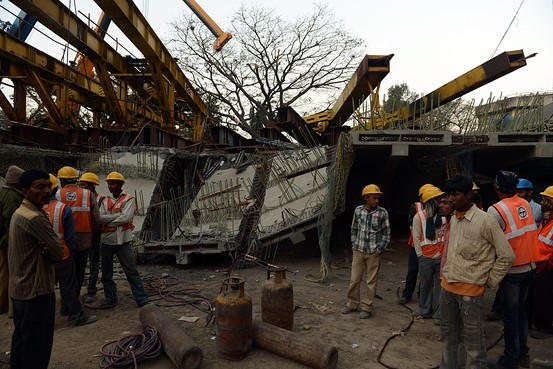NOTSAFE: (7, 169, 56, 295), (440, 174, 491, 282)
NoHardhat: (493, 170, 526, 240)
NoJacket: (349, 181, 392, 252)
SAFE: (102, 170, 133, 239)
